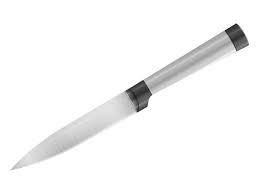Knife: (9, 22, 249, 170)
